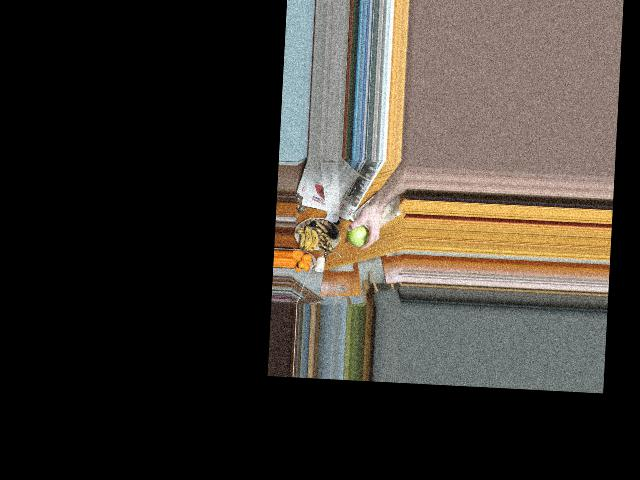apple: (346, 221, 371, 249)
